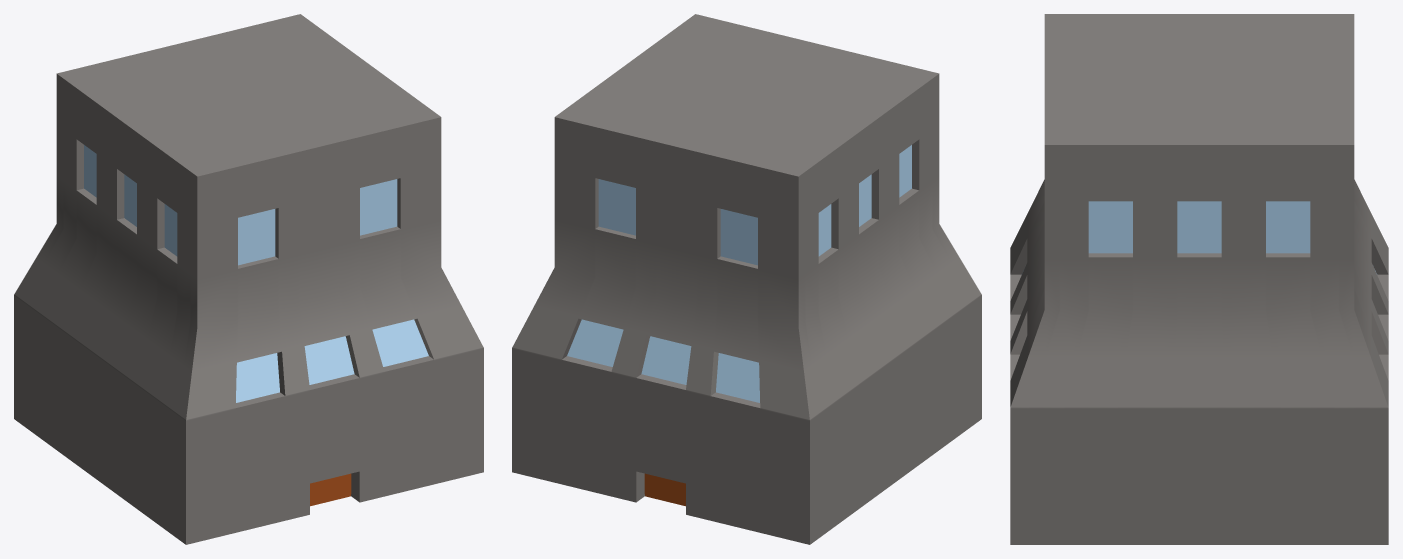
Rendered from towerBase.fbx.
The picture shows the model from 3 angles, left to right: view 1: azimuth 30°, elevation 25°; view 2: azimuth 150°, elevation 25°; view 3: azimuth 270°, elevation 25°; orthographic projection. The views are drawn at different scales.
Parts seen in each view (by area): view 1: pCube1; view 2: pCube1; view 3: pCube1.
Boxes of the visible parts, x1,y1,x2,y2 form: pCube1: (14, 14, 483, 544); pCube1: (512, 14, 981, 544); pCube1: (1010, 14, 1388, 544).
Bounding box in the file's own units: 10 × 11.25 × 10.
Materials: 1 (1 with a texture image).
